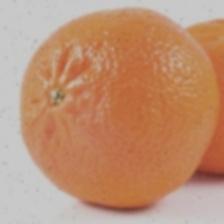orange: (0, 44, 201, 189)
